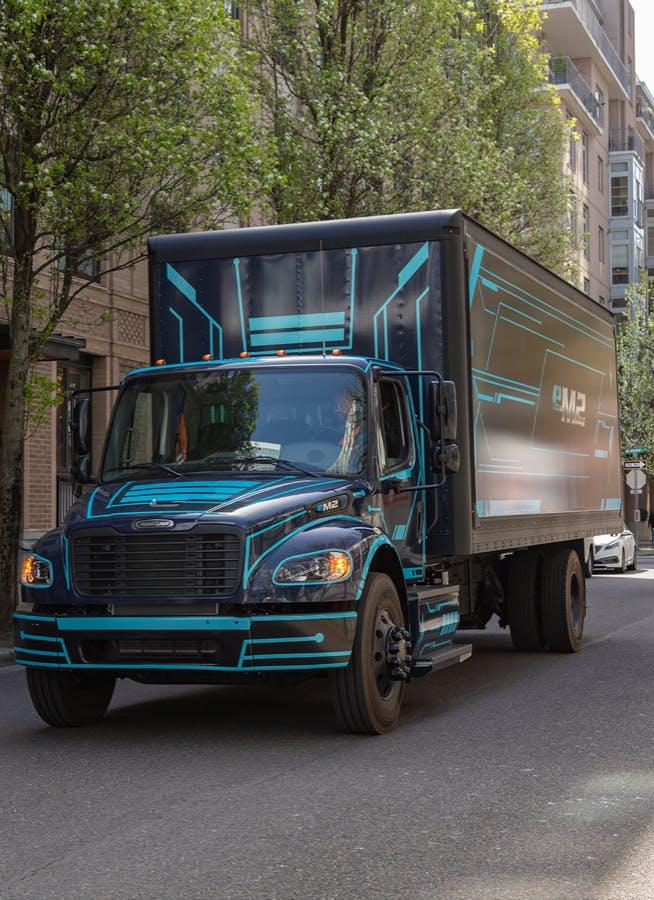car: (592, 524, 637, 575)
truck: (14, 208, 620, 739)
